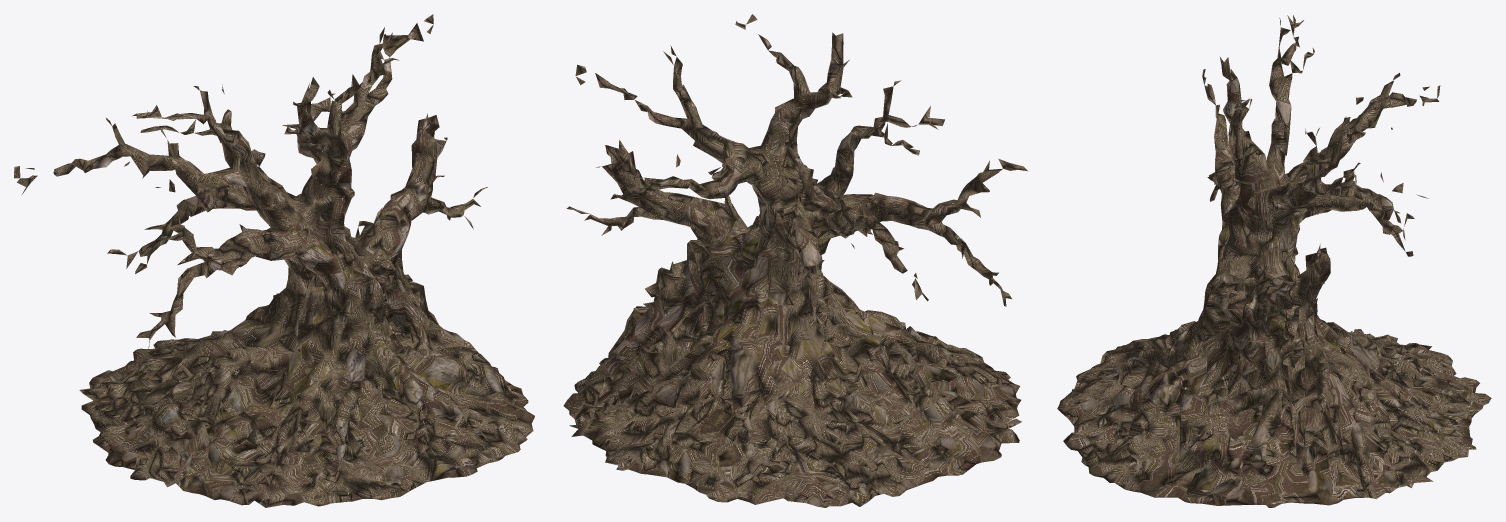
Rendered from dead-tree.glb.
3 renders of one model, left to right at view 1: azimuth 30°, elevation 25°; view 2: azimuth 150°, elevation 25°; view 3: azimuth 270°, elevation 25°, orthographic. The views are drawn at different scales.
Bounding box in the file's own units: 1.85 × 1.56 × 1.72.
Materials: 1 (1 with a texture image).
